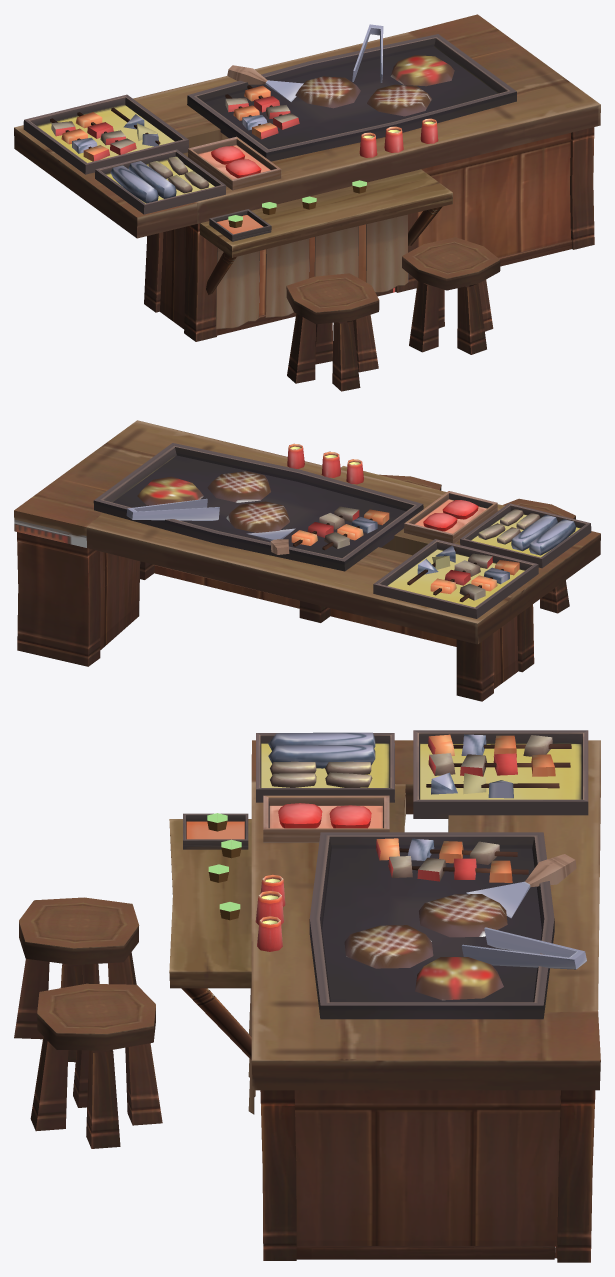
3 views of the same model, one above another, from view 1: azimuth 30°, elevation 25°; view 2: azimuth 150°, elevation 25°; view 3: azimuth 270°, elevation 25° (orthographic). The views are drawn at different scales.
Visible parts, largest first — view 1: wq_jz002_03; view 2: wq_jz002_03; view 3: wq_jz002_03.
Part boxes in pixels (x1=…): wq_jz002_03: x1=14, y1=14, x2=600, y2=391; wq_jz002_03: x1=14, y1=420, x2=600, y2=701; wq_jz002_03: x1=14, y1=730, x2=600, y2=1262.
Size of the model in its own units: 236 by 79.83 by 182.
1 material, 1 textured.
